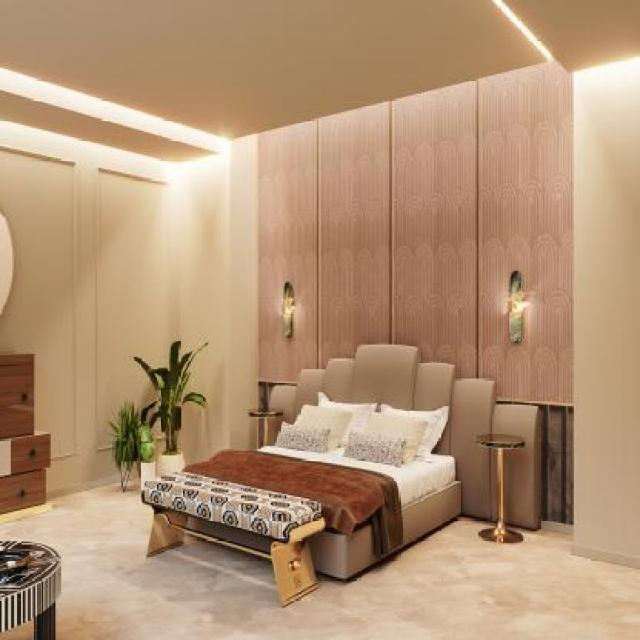Floor: (0, 478, 640, 639)
